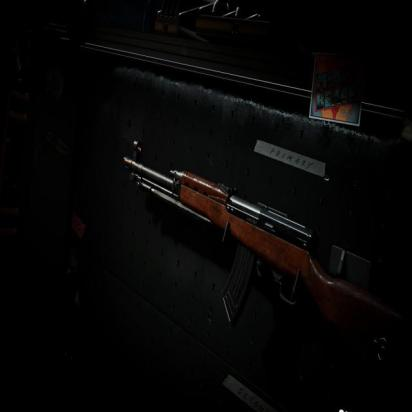Gun: (119, 139, 412, 339)
